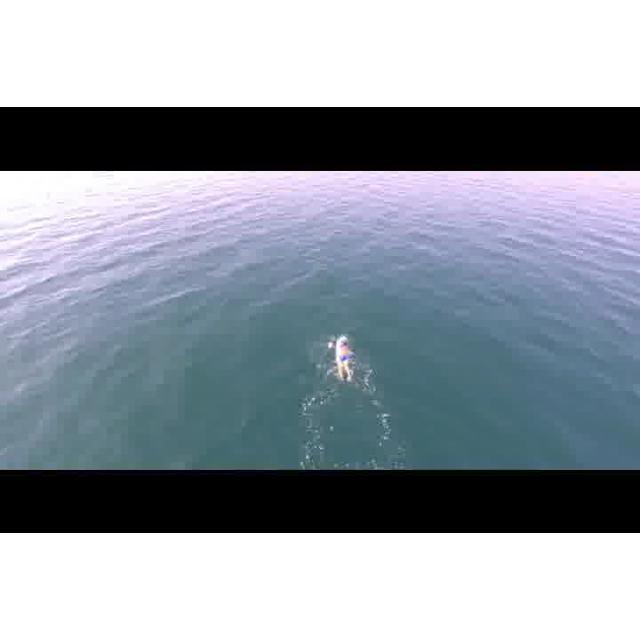human: (329, 334, 361, 382)
